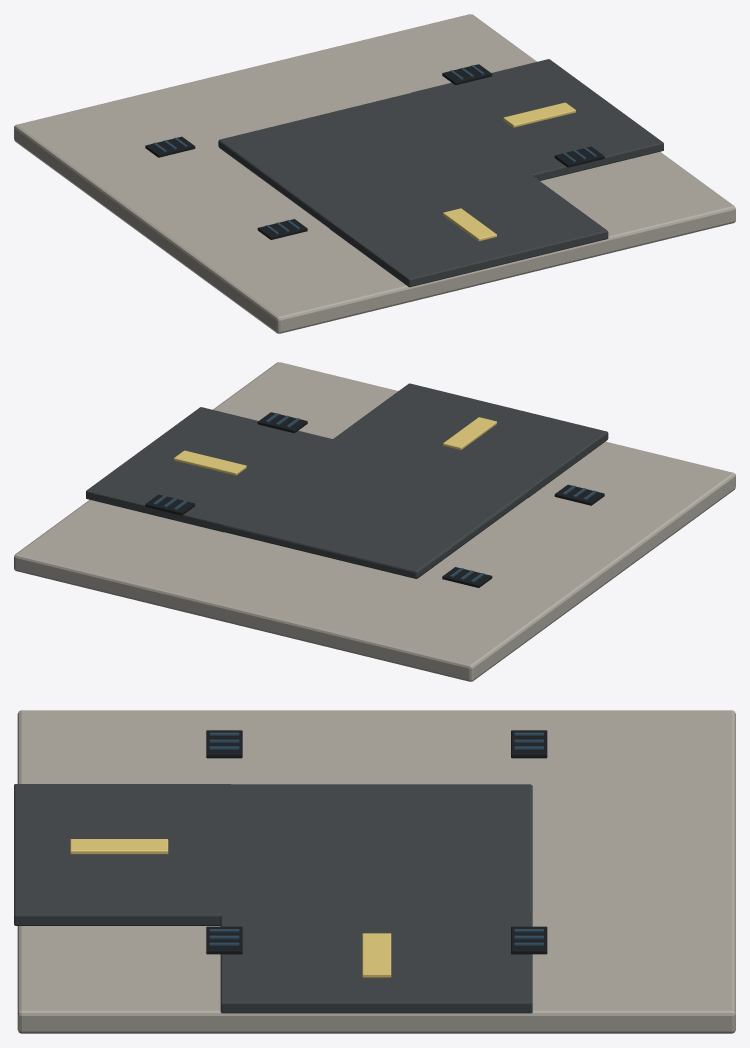
File: ROAD_LOCAL_1x1_CORNER.glb
3 renders of one model, top to bottom at view 1: azimuth 30°, elevation 25°; view 2: azimuth 150°, elevation 25°; view 3: azimuth 270°, elevation 25°, orthographic. The views are drawn at different scales.
Visible parts, largest first — view 1: ROAD_LOCAL_1x1_CORNER_Visual; view 2: ROAD_LOCAL_1x1_CORNER_Visual; view 3: ROAD_LOCAL_1x1_CORNER_Visual.
Part boxes in pixels (x1=…): ROAD_LOCAL_1x1_CORNER_Visual: x1=14, y1=14, x2=735, y2=333; ROAD_LOCAL_1x1_CORNER_Visual: x1=14, y1=362, x2=735, y2=681; ROAD_LOCAL_1x1_CORNER_Visual: x1=14, y1=710, x2=735, y2=1033.
Size of what is drawn, in the model's own units: 1.99 by 0.137 by 1.99.
